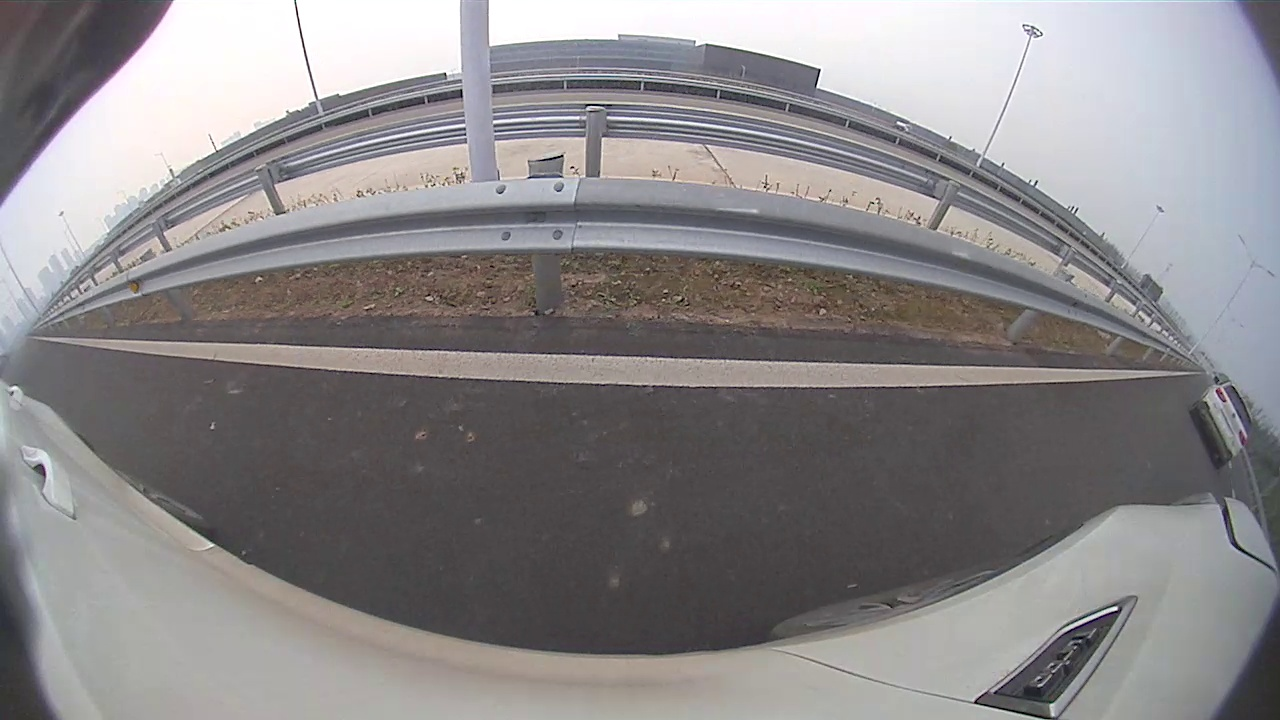car: (1188, 376, 1252, 470)
